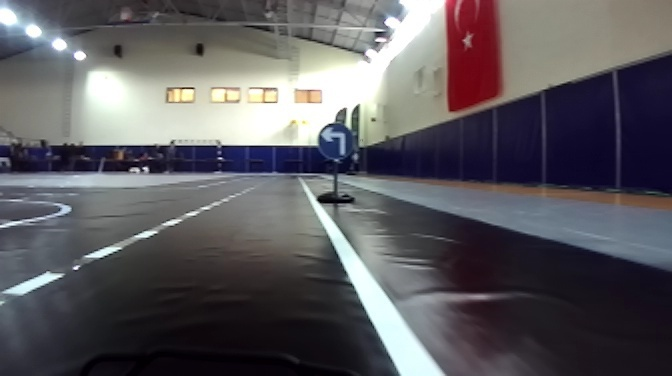sola_donus: (311, 121, 355, 158)
